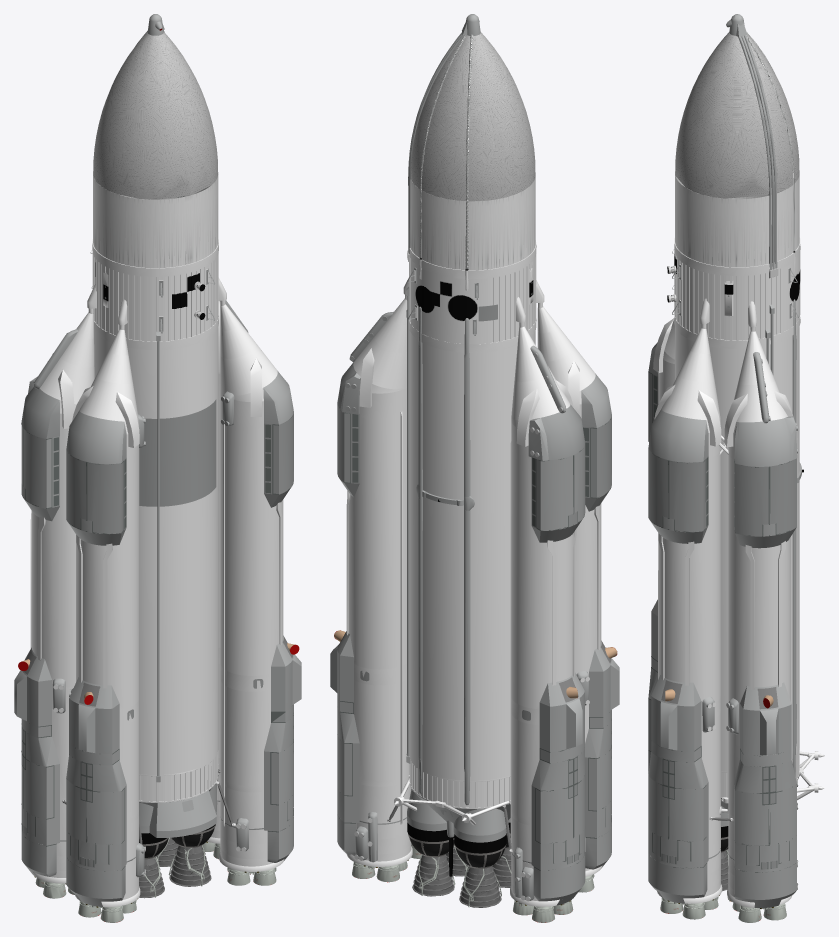
File: energia.glb
The picture shows the model from 3 angles, left to right: view 1: azimuth 30°, elevation 25°; view 2: azimuth 150°, elevation 25°; view 3: azimuth 270°, elevation 25°; orthographic projection.
Visible parts, largest first — view 1: 3D Поверхность3976, 3D Поверхность153, 3D Поверхность154, 3D Поверхность4931, 3D Поверхность5862; view 2: 3D Поверхность3976, 3D Поверхность153, 3D Поверхность154, 3D Поверхность99305, 3D Поверхность4931, 3D Поверхность2556, 3D Поверхность5862; view 3: 3D Поверхность3976, 3D Поверхность153, 3D Поверхность154, 3D Поверхность4931, 3D Поверхность99305, 3D Поверхность2556.
Part boxes in pixels (box(x1,y1,x2,y2)): 3D Поверхность3976: box(14, 14, 301, 921); 3D Поверхность153: box(93, 32, 218, 199); 3D Поверхность154: box(93, 172, 218, 268); 3D Поверхность4931: box(35, 842, 276, 922); 3D Поверхность5862: box(44, 837, 275, 912); 3D Поверхность3976: box(330, 14, 619, 922); 3D Поверхность153: box(410, 32, 535, 201); 3D Поверхность154: box(410, 172, 535, 270); 3D Поверхность99305: box(411, 260, 487, 344); 3D Поверхность4931: box(352, 843, 594, 922); 3D Поверхность2556: box(420, 34, 473, 268); 3D Поверхность5862: box(353, 845, 592, 912); 3D Поверхность3976: box(648, 14, 824, 920); 3D Поверхность153: box(675, 32, 799, 198); 3D Поверхность154: box(675, 170, 799, 267); 3D Поверхность4931: box(660, 898, 786, 922); 3D Поверхность99305: box(782, 251, 800, 331); 3D Поверхность2556: box(746, 32, 794, 251).
Bounding box in the file's own units: 17.69 × 58.75 × 10.94.
10 materials, 10 textured.
